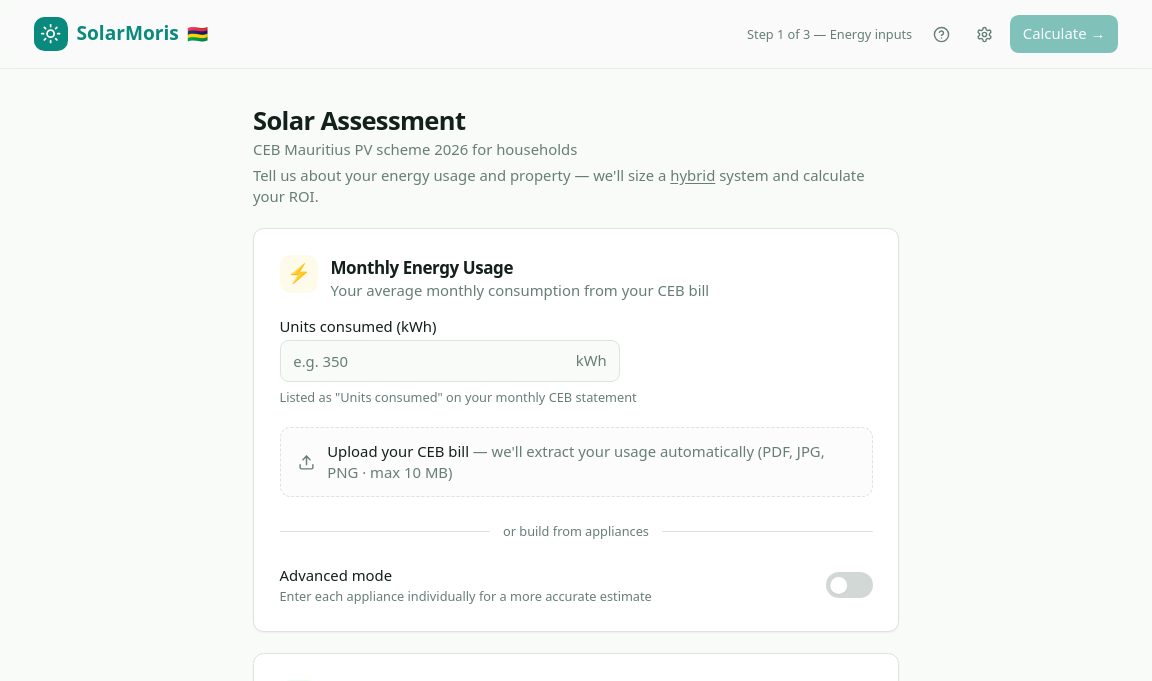
Test case: DashboardPage — form validation › Calculate button becomes enabled after entering a kWh value
This screenshot has width=1152, height=681.
In the number field labelled "Units consumed (kWh)": (450, 361) [280,340,620,382], type "350"
(page scrolled)
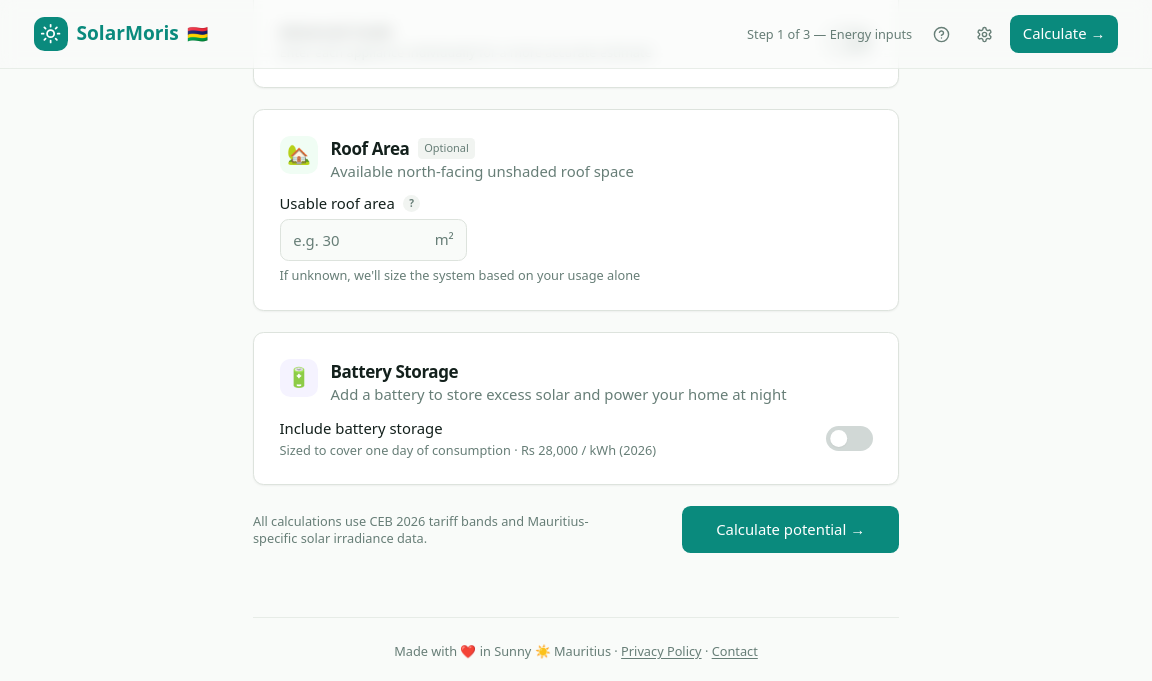
Now the button "Calculate potential →" is enabled, box [682,506,899,553]
